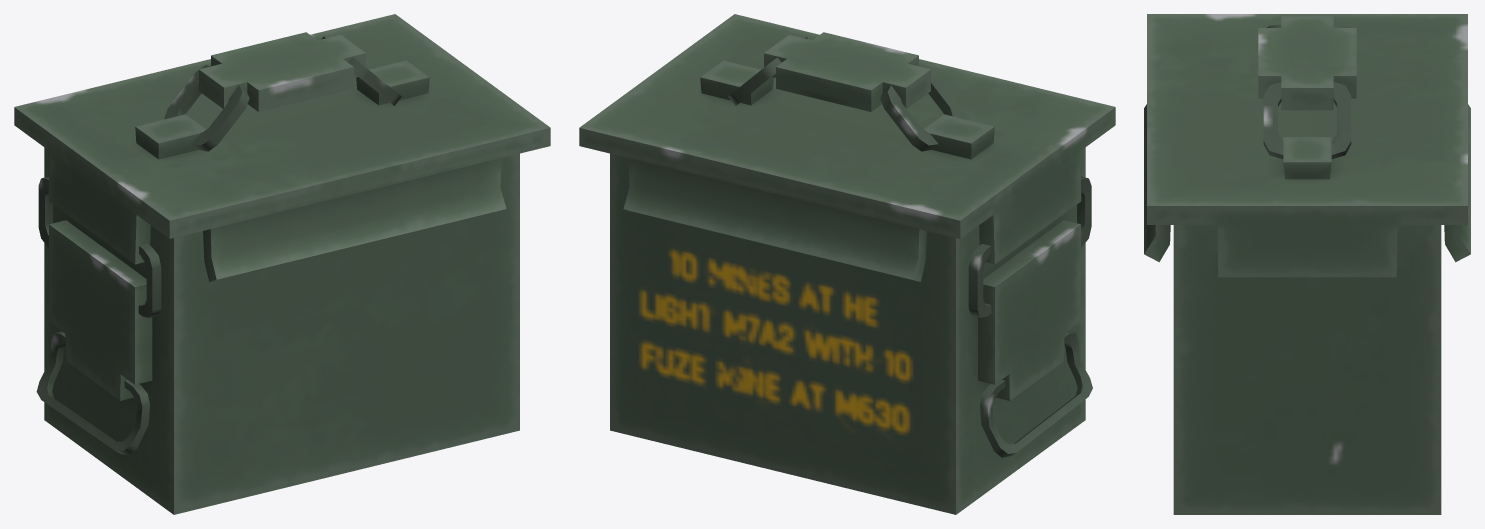
File: Prfb_Bulletbox__2.fbx
3 views of the same model, side by side, from view 1: azimuth 30°, elevation 25°; view 2: azimuth 150°, elevation 25°; view 3: azimuth 270°, elevation 25° (orthographic). The views are drawn at different scales.
Visible parts, largest first — view 1: Mat_Bulletbox; view 2: Mat_Bulletbox; view 3: Mat_Bulletbox.
Boxes of the visible parts, left/top/right/bottom form: Mat_Bulletbox: left=14, top=14, right=550, bottom=514; Mat_Bulletbox: left=579, top=14, right=1115, bottom=514; Mat_Bulletbox: left=1144, top=14, right=1470, bottom=514.
Size of the model in its own units: 0.4732 by 0.4159 by 0.3277.
1 material, 1 textured.
